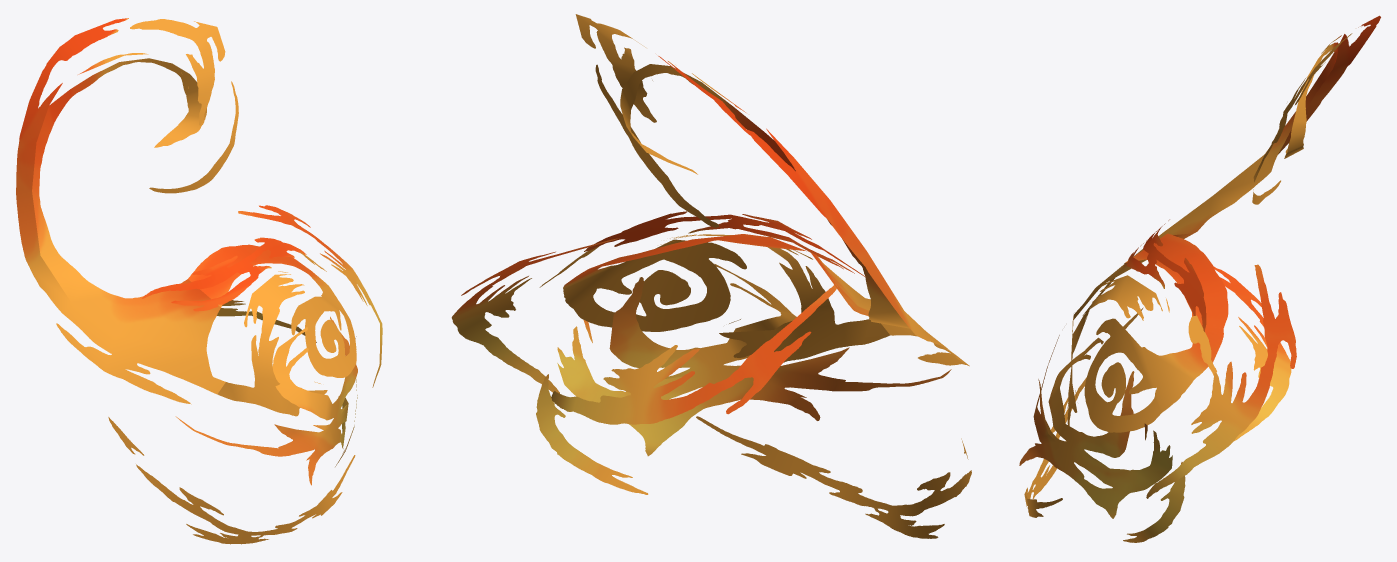
Rendered from fire.fbx.
3 views of the same model, side by side, from view 1: azimuth 30°, elevation 25°; view 2: azimuth 150°, elevation 25°; view 3: azimuth 270°, elevation 25° (orthographic). The views are drawn at different scales.
Visible parts, largest first — view 1: mesh_fire; view 2: mesh_fire; view 3: mesh_fire.
Boxes of the visible parts, x1,y1,x2,y2 form: mesh_fire: [16, 18, 382, 544]; mesh_fire: [451, 14, 971, 538]; mesh_fire: [1019, 15, 1380, 542].
Bounding box in the file's own units: 35.52 × 42.46 × 29.77.
Materials: 1 (1 with a texture image).
